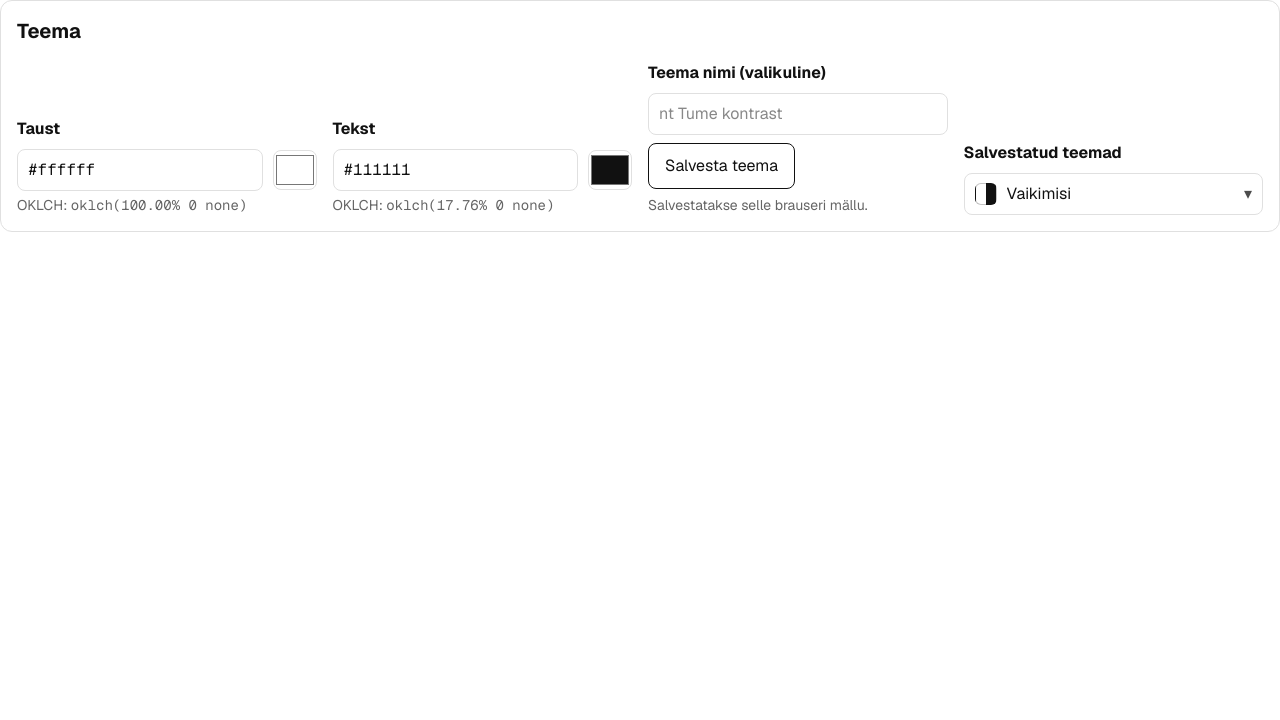
Scenario: ThemePicker › caps the hex field at 7 characters
This screenshot has width=1280, height=720.
Replace the text in the field labelled "Taust" with "#abcdef0". click: (140, 170)
box: [17, 149, 262, 191]
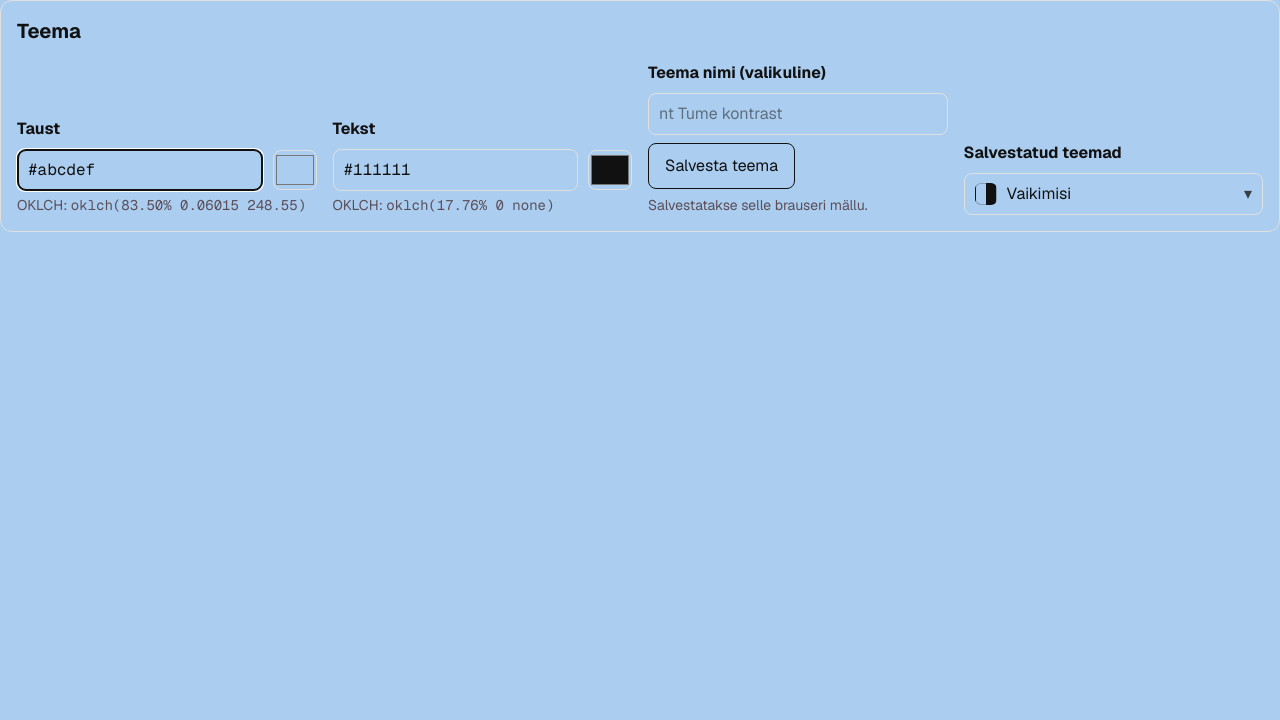
Expected: the field labelled "Taust" holds "#abcdef", [17, 149, 262, 191]
